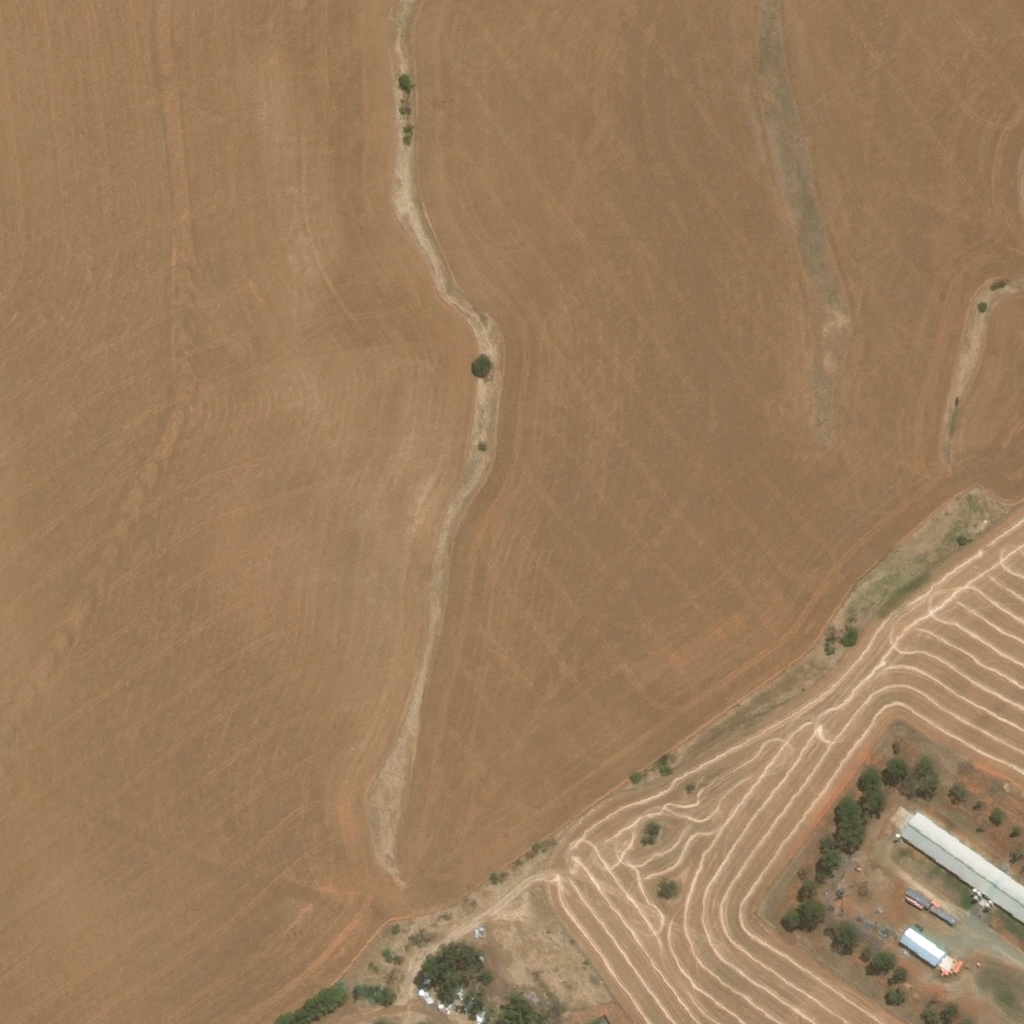0 no-damage: (898, 812, 1023, 925), (898, 927, 945, 965), (929, 904, 954, 926), (905, 889, 930, 910)
